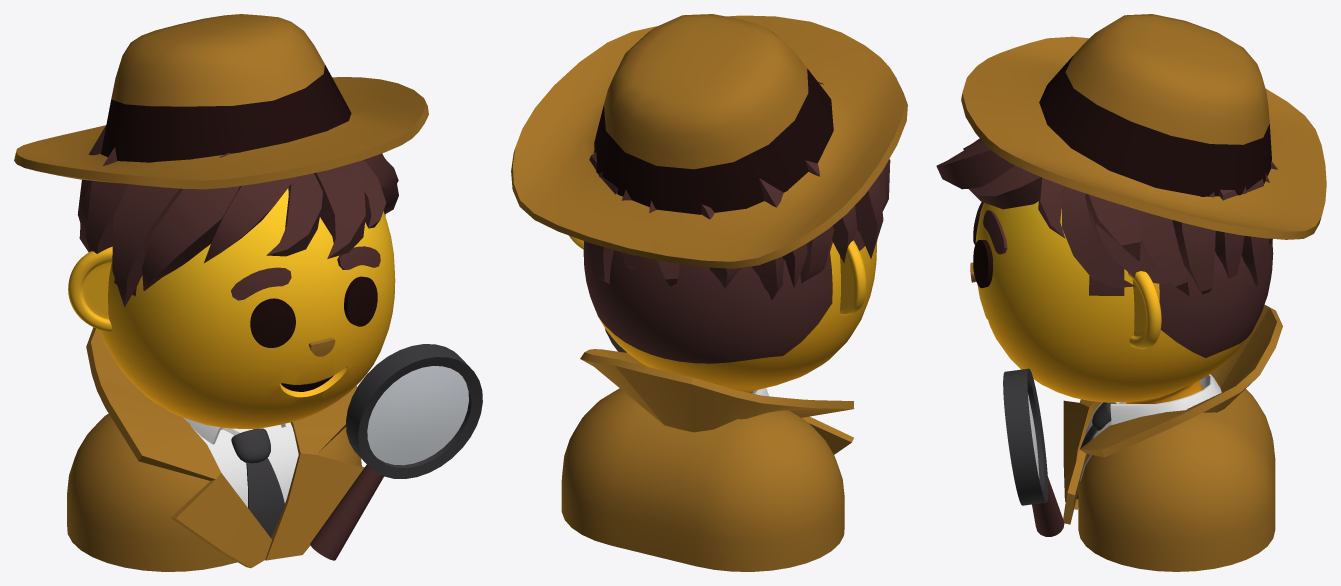
Rendered from Detective.gltf.
The picture shows the model from 3 angles, left to right: view 1: azimuth 30°, elevation 25°; view 2: azimuth 150°, elevation 25°; view 3: azimuth 270°, elevation 25°; orthographic projection. The views are drawn at different scales.
Parts seen in each view (by area): view 1: Plane.078, Roundcube.147, Cube.1862, Plane.080, Sphere.118, Circle.788, Circle.785, Cylinder.121, Circle.789, Circle.787, Cube.1870; view 2: Plane.078, Sphere.118, Roundcube.147, Plane.080, Cube.1862, Cylinder.121; view 3: Plane.078, Roundcube.147, Sphere.118, Cube.1862, Plane.080, Circle.788, Cylinder.121, Plane.077, Circle.785, Circle.787.
Boxes of the visible parts, <box> form: Plane.078: <box>14,14,428,189</box>; Roundcube.147: <box>99,188,395,429</box>; Cube.1862: <box>77,125,398,307</box>; Plane.080: <box>86,327,364,568</box>; Sphere.118: <box>67,413,361,571</box>; Circle.788: <box>310,344,482,560</box>; Circle.785: <box>250,276,377,347</box>; Cylinder.121: <box>68,214,385,332</box>; Circle.789: <box>246,458,284,537</box>; Circle.787: <box>231,246,380,300</box>; Cube.1870: <box>231,428,270,463</box>; Plane.078: <box>511,14,907,268</box>; Sphere.118: <box>561,388,844,571</box>; Roundcube.147: <box>583,229,877,393</box>; Plane.080: <box>580,349,854,454</box>; Cube.1862: <box>588,81,890,299</box>; Cylinder.121: <box>569,235,866,315</box>; Plane.078: <box>961,14,1326,239</box>; Roundcube.147: <box>975,201,1273,403</box>; Sphere.118: <box>1078,385,1275,571</box>; Cube.1862: <box>936,138,1277,296</box>; Plane.080: <box>1063,304,1282,524</box>; Circle.788: <box>1003,368,1064,536</box>; Cylinder.121: <box>1128,271,1161,349</box>; Plane.077: <box>1110,374,1221,424</box>; Circle.785: <box>973,202,992,288</box>; Circle.787: <box>983,210,1007,254</box>.
Bounding box in the file's own units: 1.98 × 2.69 × 1.98.
Materials: 7 (1 with a texture image).
